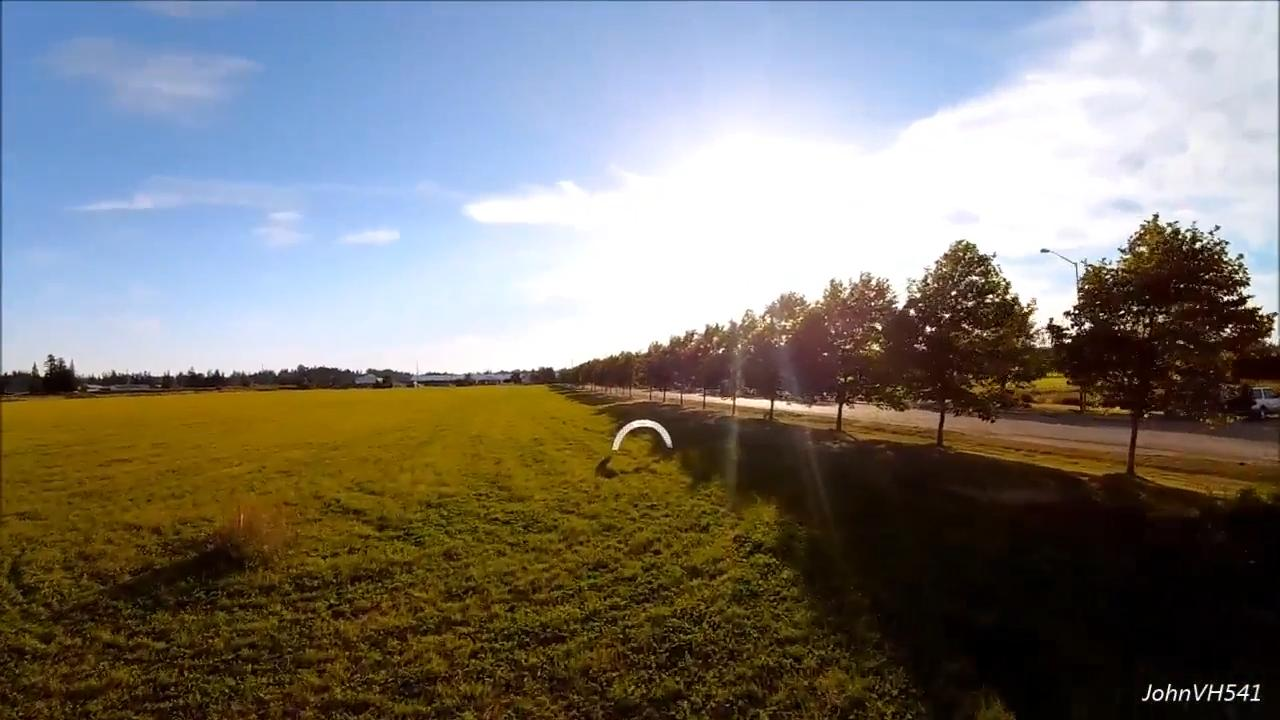gate: (612, 417, 671, 451)
